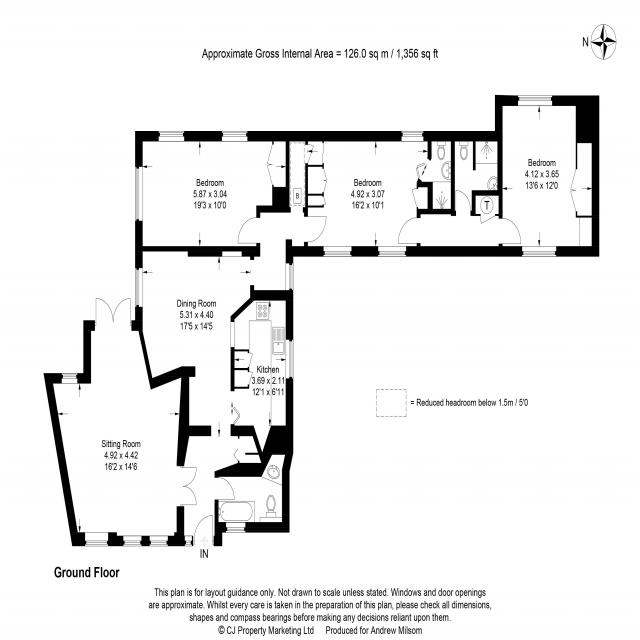DOOR: (236, 212, 261, 245), (304, 213, 329, 246), (498, 215, 523, 247), (397, 215, 421, 246), (193, 513, 214, 546), (215, 476, 238, 505)
DOUBLE DOOR: (93, 295, 132, 331), (176, 464, 199, 508)
ROOM: (135, 130, 290, 257), (495, 95, 599, 257)
WINDOW: (132, 161, 146, 227), (516, 91, 556, 109), (397, 124, 430, 145), (219, 125, 251, 146), (156, 124, 187, 145), (521, 243, 558, 260), (283, 335, 296, 383), (133, 263, 145, 308), (83, 529, 110, 548), (376, 244, 407, 259), (322, 244, 354, 258), (284, 261, 296, 295), (225, 520, 247, 535), (60, 371, 80, 386), (149, 534, 169, 548), (121, 535, 142, 548), (229, 318, 236, 351), (184, 534, 194, 547)
